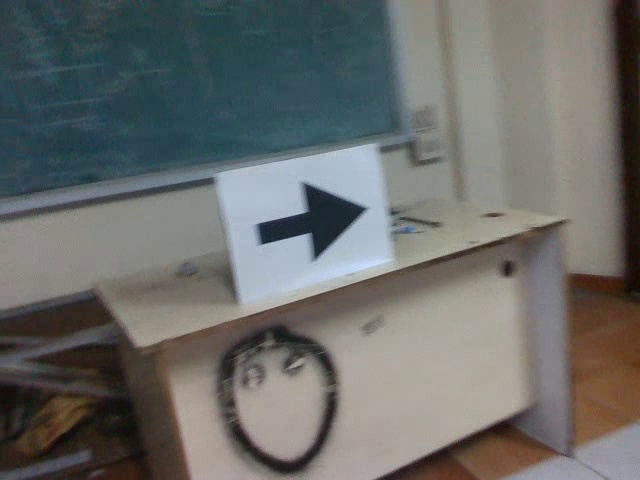Right: (250, 177, 368, 260)
